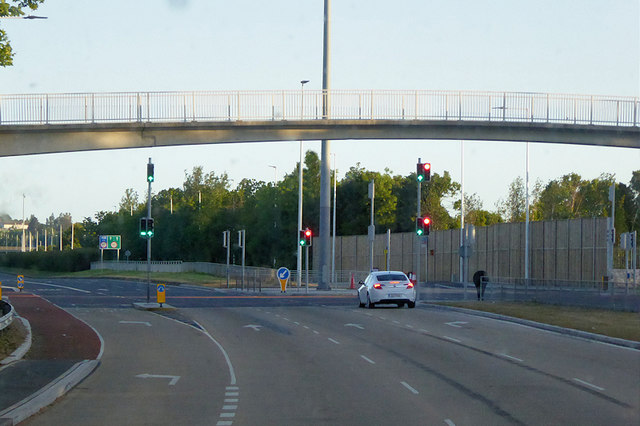bridge: (1, 93, 640, 160)
